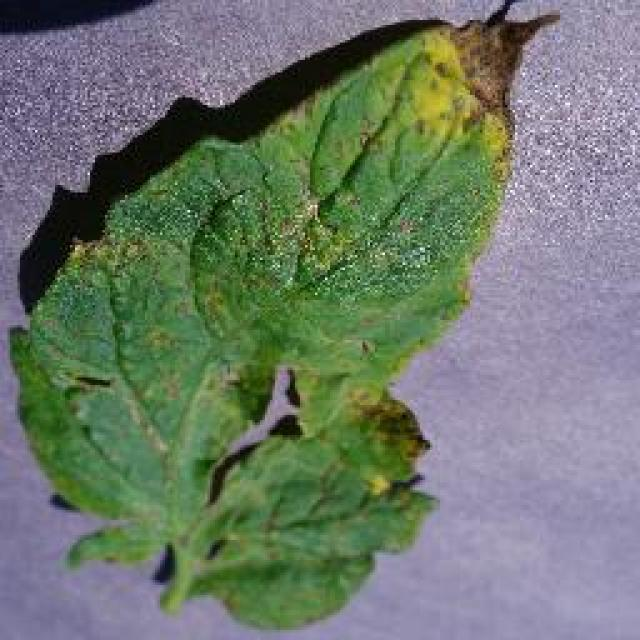Tomato Septoria spot leaf: (12, 13, 516, 632)
